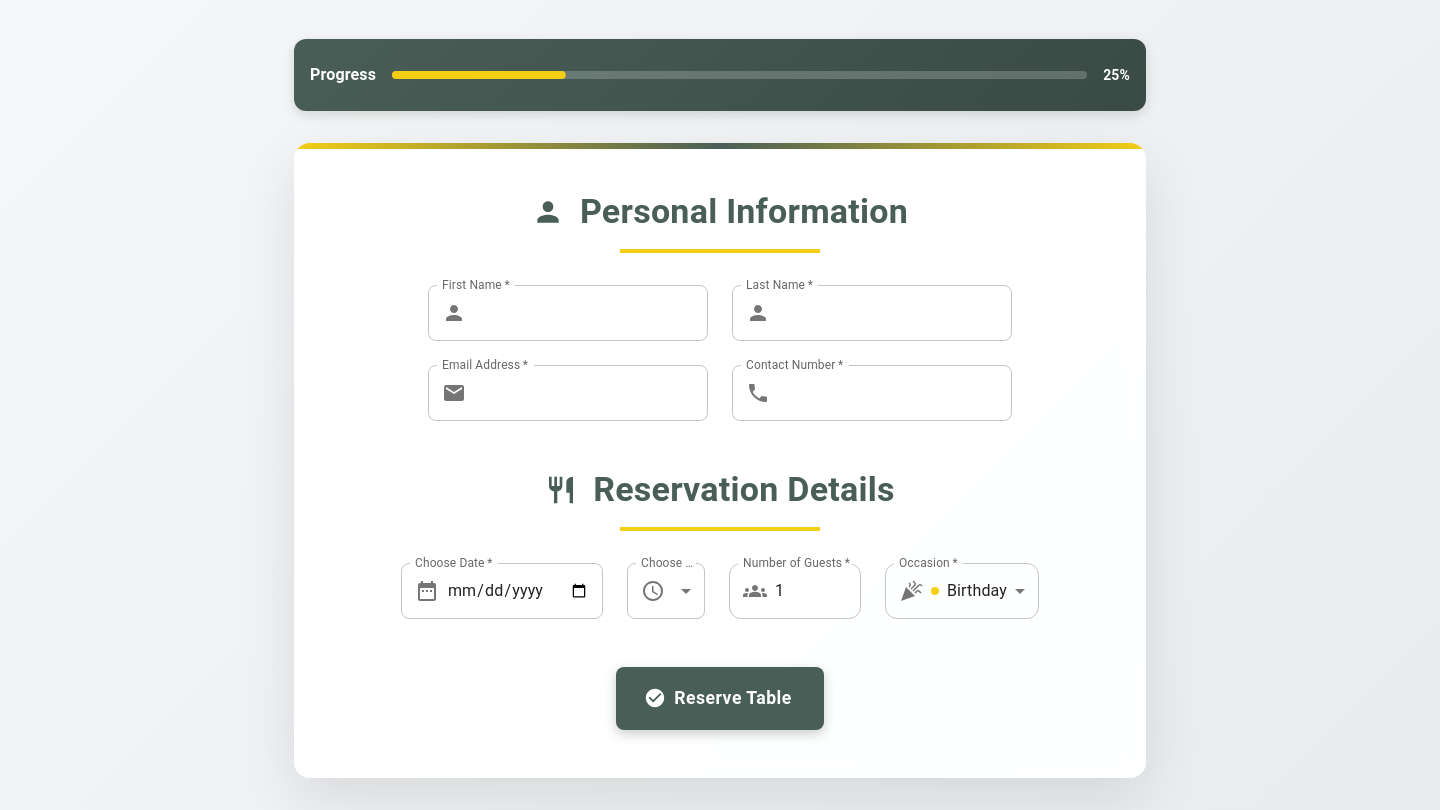
BookingForm with Formik validation › validates number of guests range
The width and height of the screenshot is (1440, 810).
(page scrolled)
Test minimum validation
Replace the text in the number field labelled "Number of Guests *" with "0" at (818, 591), box x1=775 y1=563 x2=861 y2=619
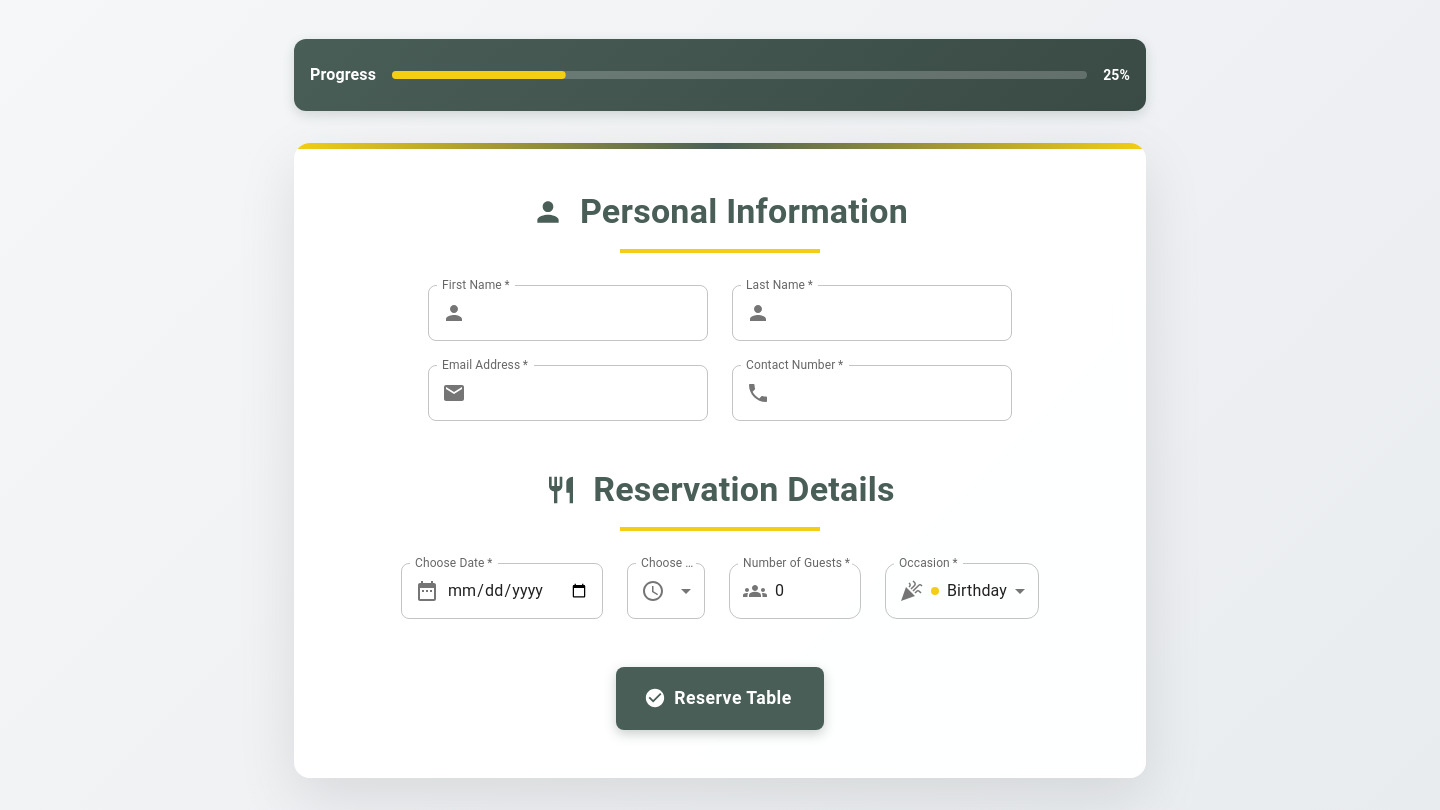
Leave the number field labelled "Number of Guests *", box x1=775 y1=563 x2=861 y2=619
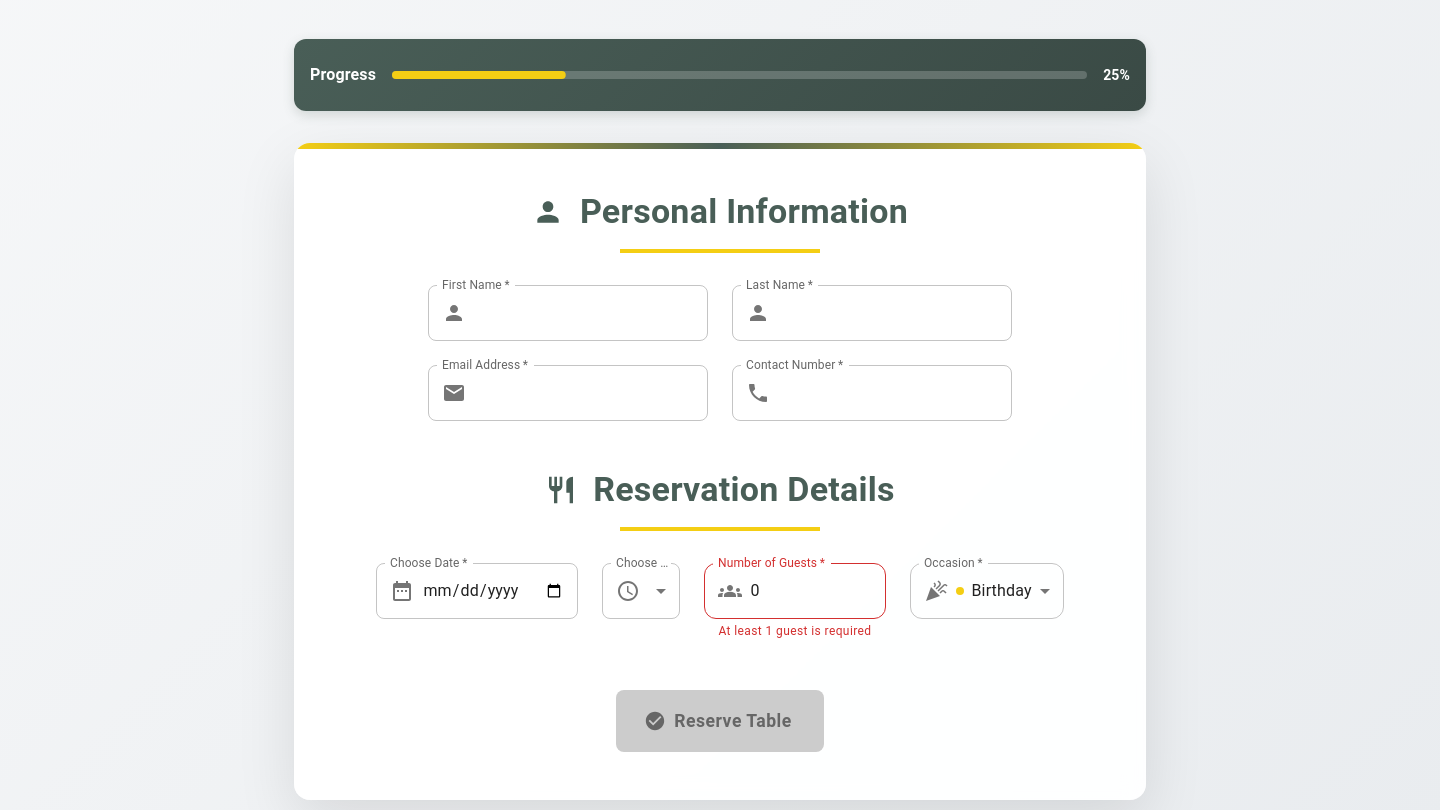
Result: the text "At least 1 guest is required" is shown at x1=718 y1=622 x2=872 y2=642
Test maximum validation
Replace the text in the number field labelled "Number of Guests *" with "15" at (818, 591), box x1=750 y1=563 x2=886 y2=619
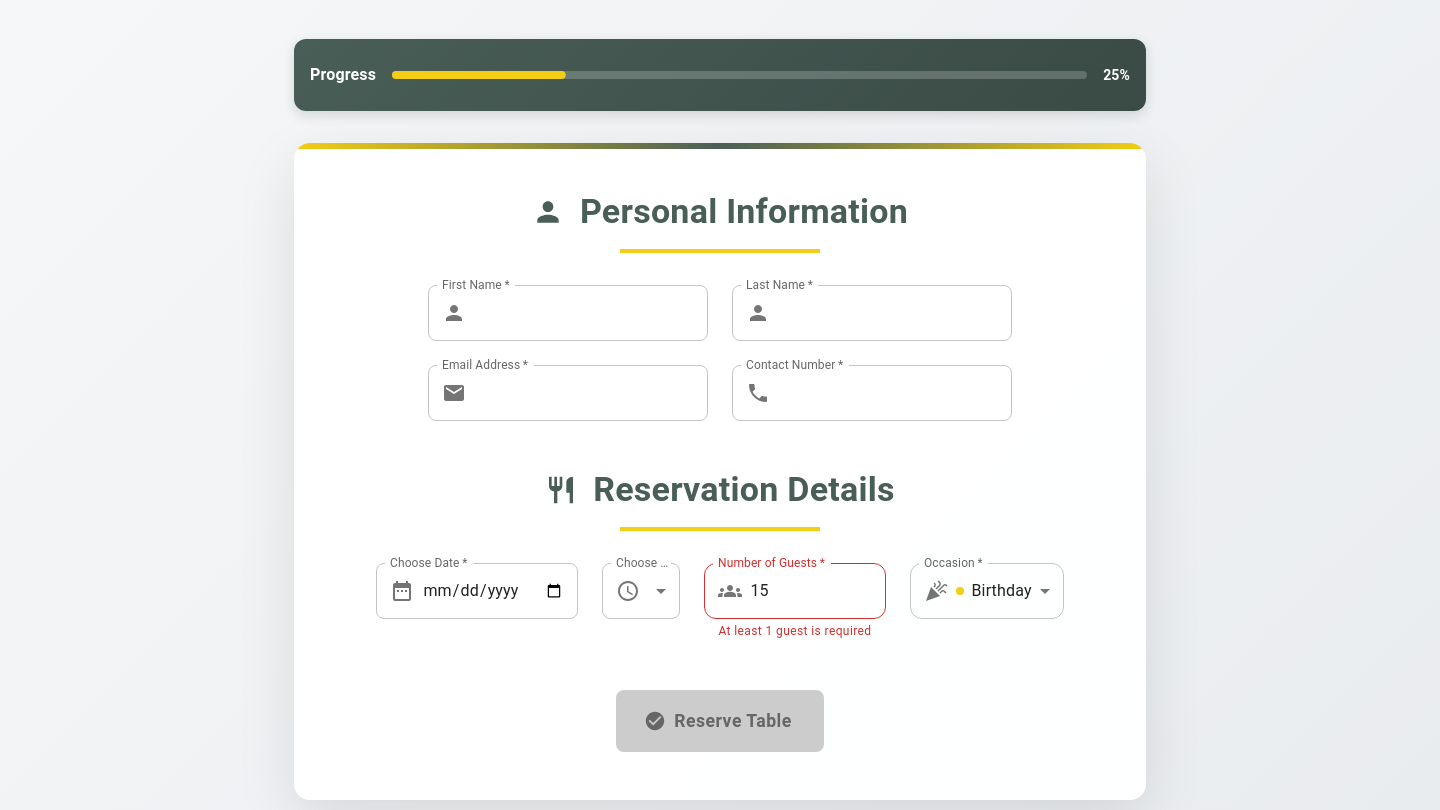
Leave the number field labelled "Number of Guests *", box x1=750 y1=563 x2=886 y2=619
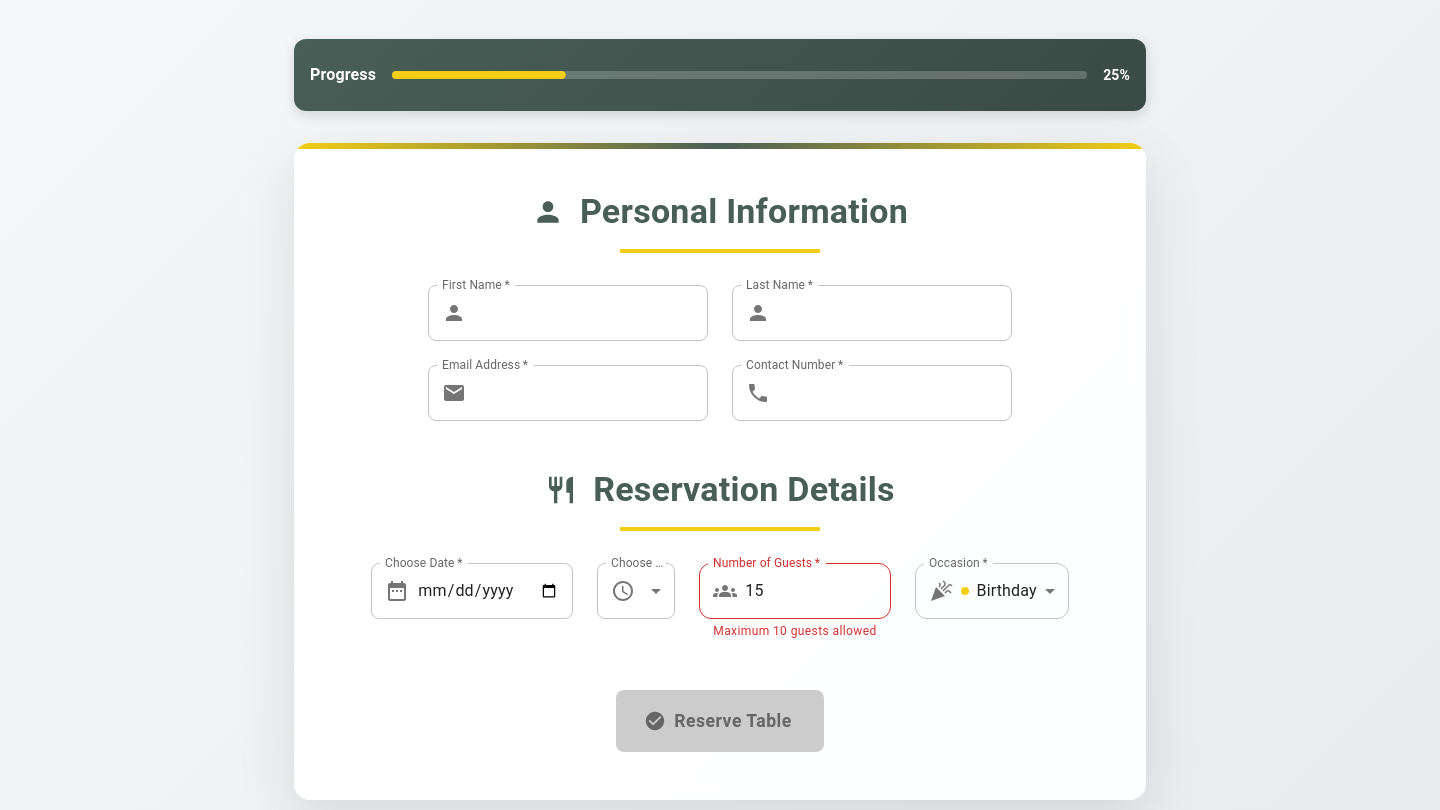
Result: the text "Maximum 10 guests allowed" is shown at x1=713 y1=622 x2=877 y2=642
